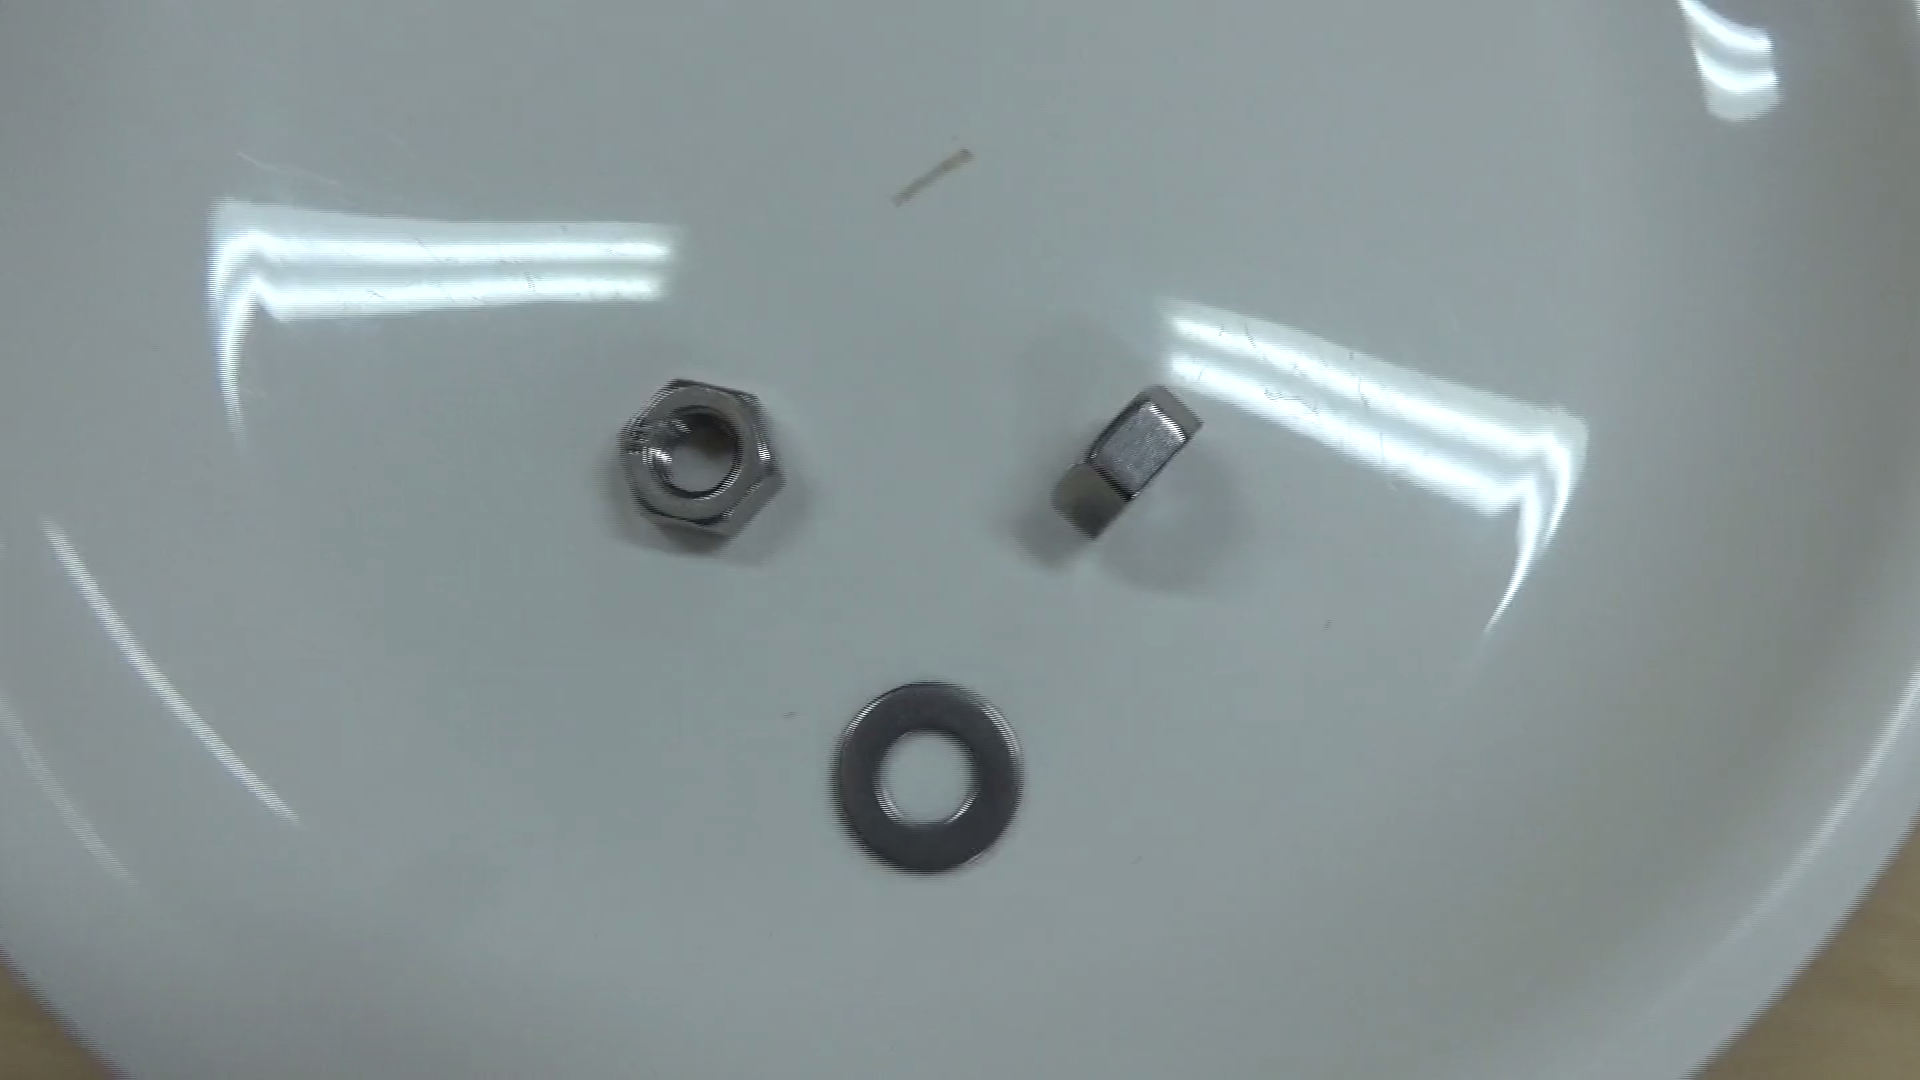nut: (599, 369, 798, 559), (1034, 371, 1209, 558)
washer: (820, 669, 1036, 884)
